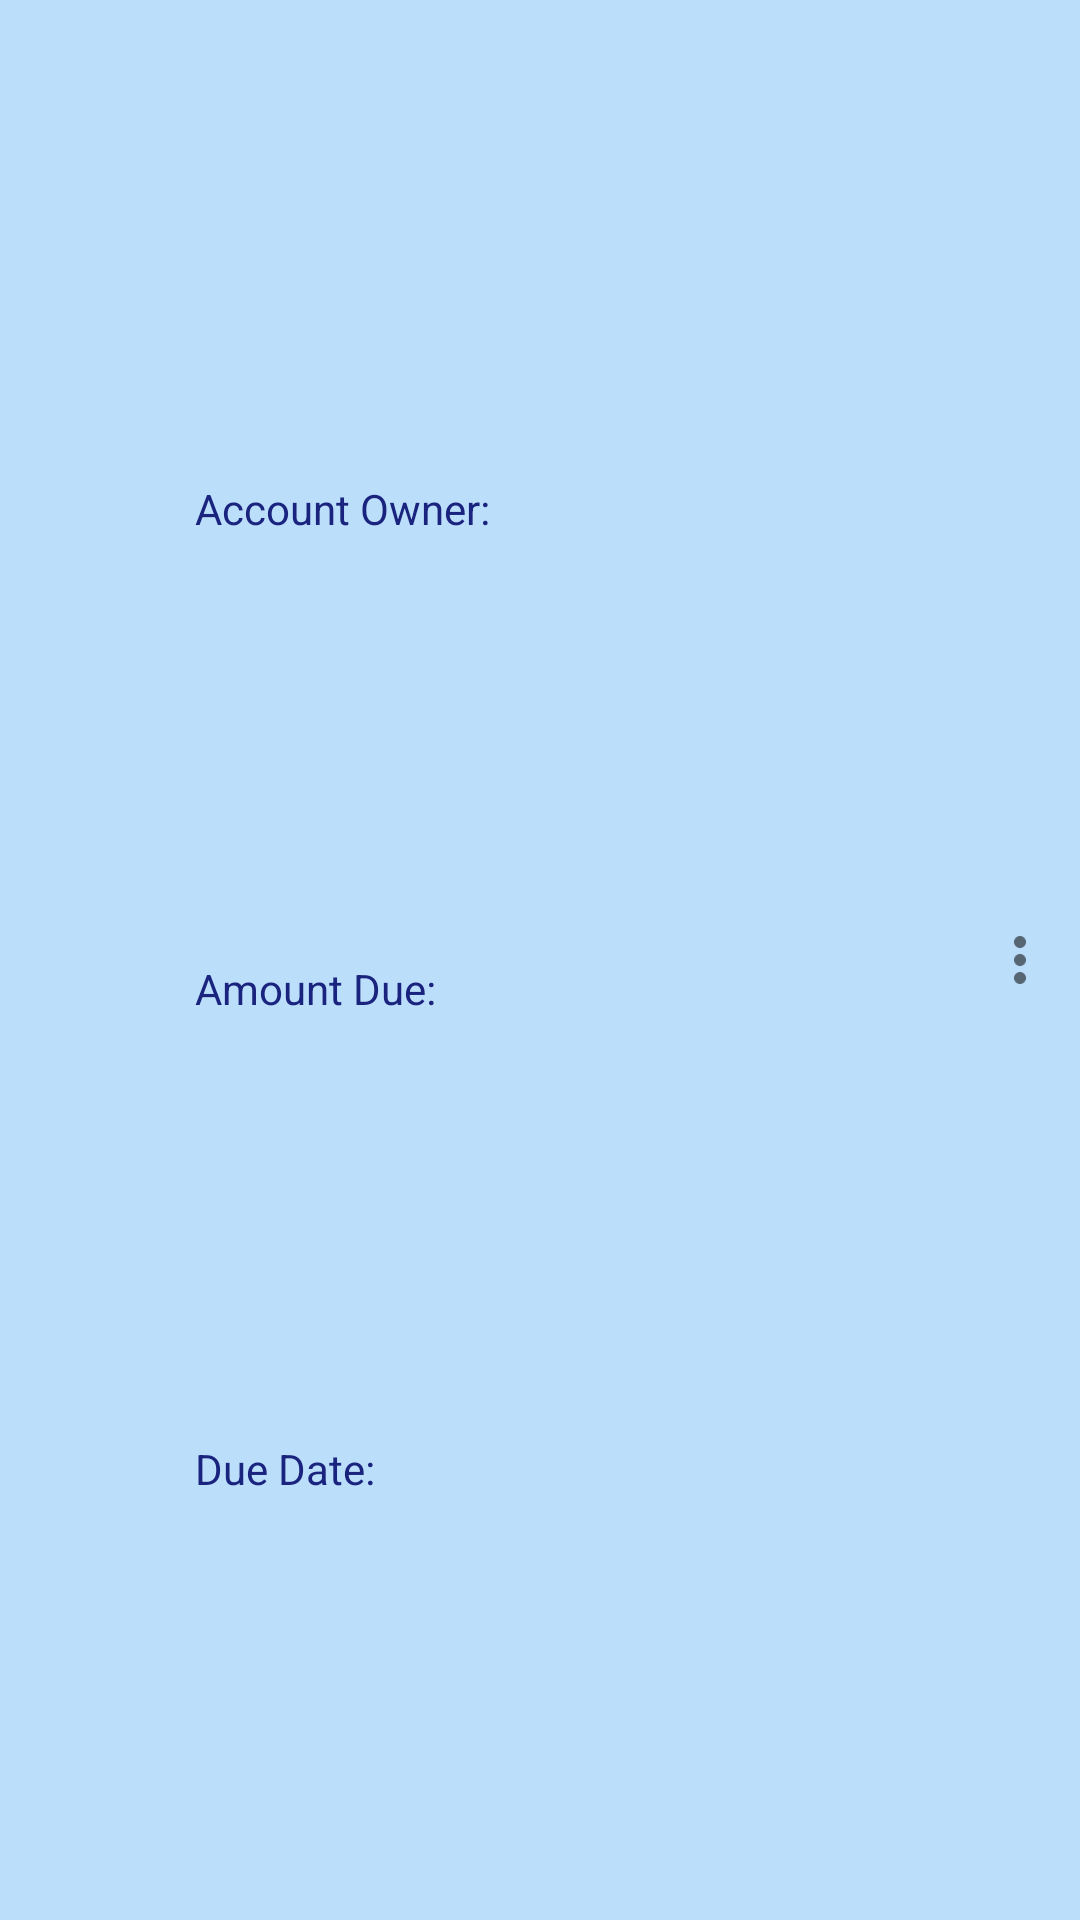

Where to tap for icons on this 1080px×1920px app screen, as (x,y):
navigation more vert: (1020,960)
